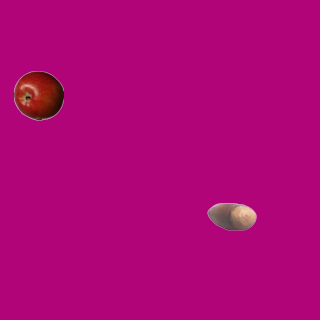Apple Braeburn: (13, 70, 63, 120)
Hazelnut: (206, 191, 256, 241)
